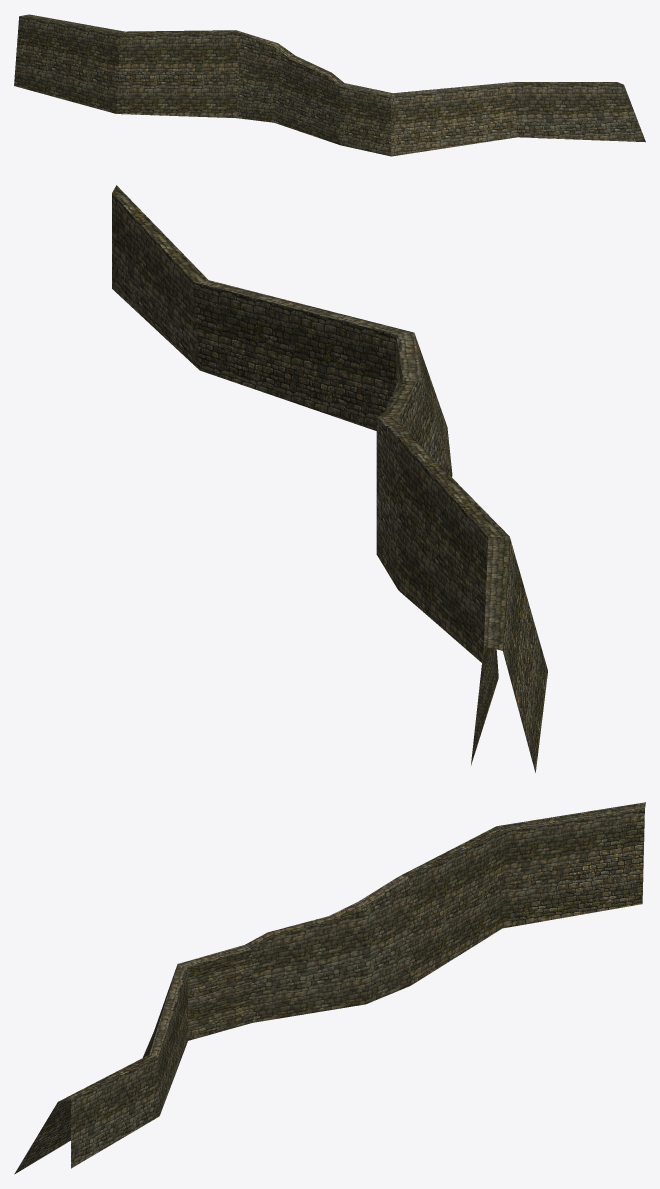
3 views of the same model, one above another, from view 1: azimuth 30°, elevation 25°; view 2: azimuth 150°, elevation 25°; view 3: azimuth 270°, elevation 25° (orthographic). The views are drawn at different scales.
Visible parts, largest first — view 1: TN2_W12; view 2: TN2_W12; view 3: TN2_W12.
Boxes of the visible parts, x1,y1,x2,y2 form: TN2_W12: (14,14,645,156); TN2_W12: (112,185,547,772); TN2_W12: (14,802,645,1174).
Size of the model in its own units: 47.56 by 8.35 by 43.77.
Materials: 2 (2 with a texture image).
